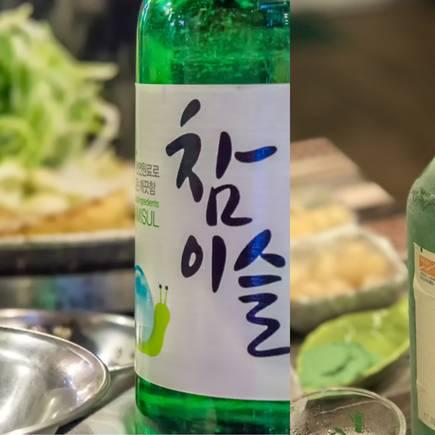soju: (131, 2, 294, 435)
